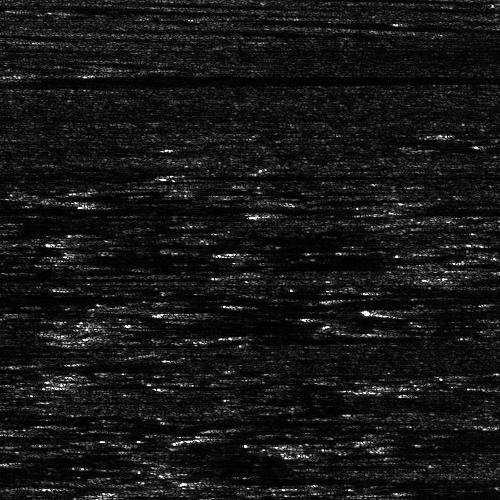rock: (0, 234, 146, 247), (157, 474, 262, 485), (152, 434, 267, 443), (336, 306, 419, 315), (179, 333, 262, 342), (329, 285, 392, 294), (10, 379, 83, 386), (129, 309, 202, 316), (0, 71, 27, 88), (134, 172, 197, 177), (373, 442, 414, 449), (0, 301, 22, 314), (198, 158, 209, 183), (53, 340, 94, 345), (383, 201, 436, 204), (259, 211, 290, 216)
shadow: (0, 71, 500, 88), (0, 193, 260, 220), (204, 158, 351, 183), (53, 234, 335, 247), (210, 474, 495, 485), (221, 333, 439, 342), (210, 434, 354, 443), (361, 285, 500, 294), (378, 306, 500, 315), (166, 309, 310, 316), (0, 301, 74, 314), (0, 293, 86, 304), (394, 442, 500, 449), (0, 273, 146, 278), (166, 172, 312, 177), (0, 348, 54, 359), (47, 379, 116, 386), (275, 211, 350, 216), (74, 340, 144, 345), (410, 201, 487, 204)
